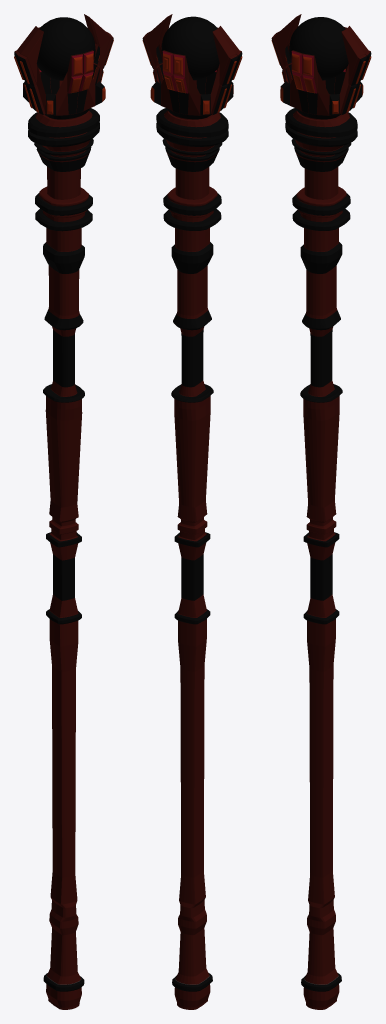
File: staff.fbx
3 views of the same model, side by side, from view 1: azimuth 30°, elevation 25°; view 2: azimuth 150°, elevation 25°; view 3: azimuth 330°, elevation 25° (orthographic).
Visible parts, largest first — view 1: pCylinder2, pSphere1; view 2: pCylinder2, pSphere1; view 3: pCylinder2, pSphere1.
Boxes of the visible parts, left/top/right/bottom form: pCylinder2: left=14, top=14, right=113, bottom=1009; pSphere1: left=36, top=17, right=95, bottom=80; pCylinder2: left=142, top=14, right=242, bottom=1009; pSphere1: left=161, top=16, right=219, bottom=80; pCylinder2: left=271, top=14, right=371, bottom=1009; pSphere1: left=289, top=17, right=348, bottom=80.
Bounding box in the file's own units: 12.17 × 122 × 9.42.
